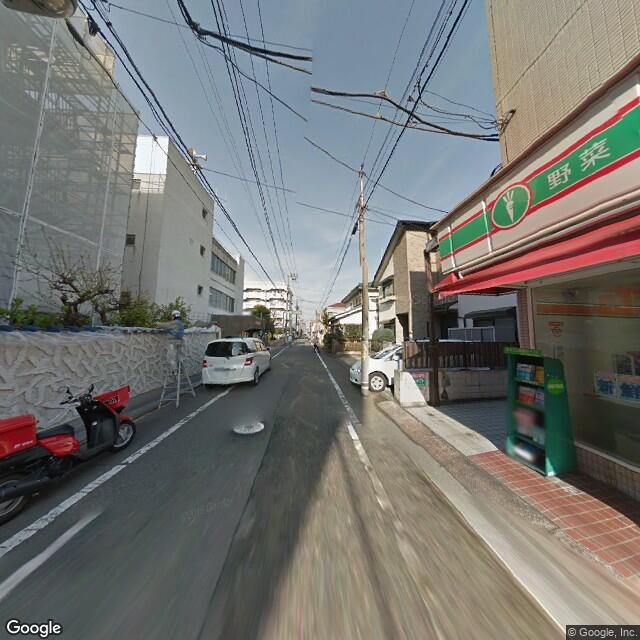lawson: (439, 81, 638, 283)
